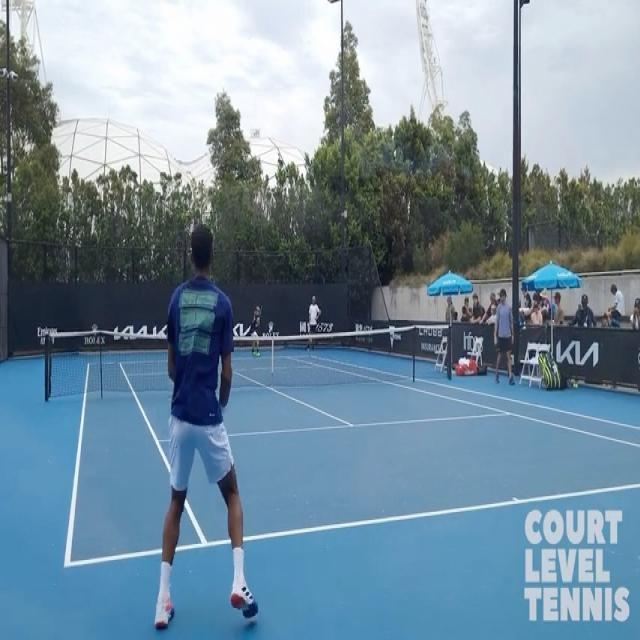ready-position: (155, 224, 259, 629)
